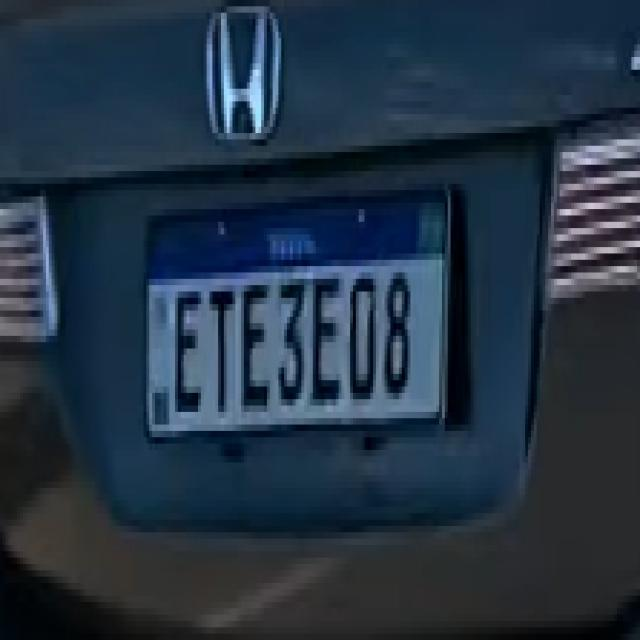Placa_mercosul_carro: (143, 186, 446, 438)
